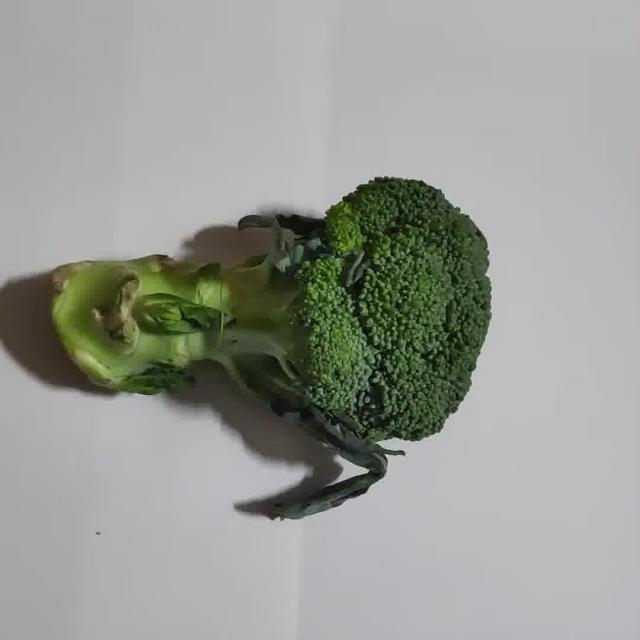Broccoli: (47, 178, 491, 510)
